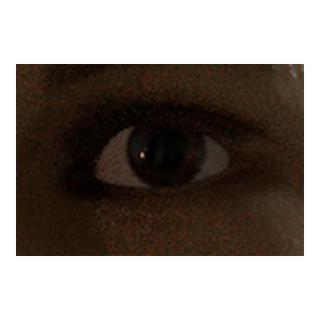pupil: (149, 133, 183, 167)
